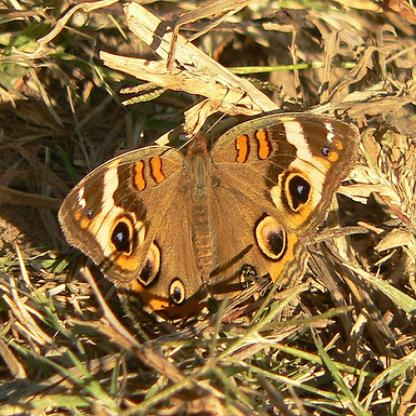Common Buckeye: (57, 80, 368, 335)
